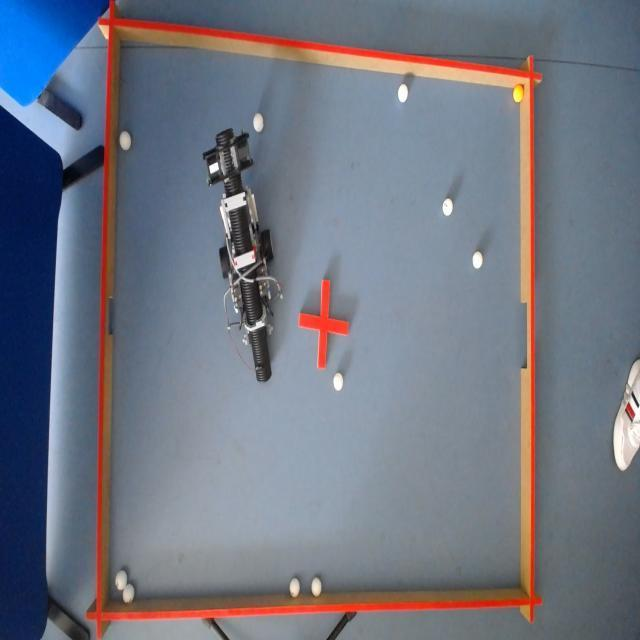orange: (513, 84, 523, 102)
robot: (210, 130, 282, 384)
white: (114, 568, 128, 591), (289, 576, 301, 598), (122, 580, 134, 602), (398, 84, 410, 105), (333, 372, 345, 392), (310, 577, 322, 597), (120, 130, 131, 150), (472, 251, 483, 270), (442, 197, 452, 216), (254, 114, 264, 132)
